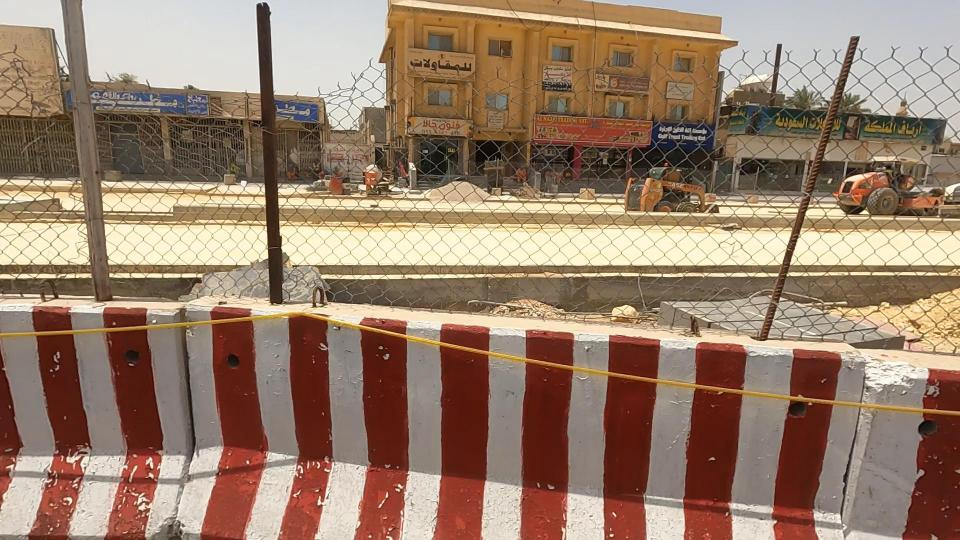CONSTRUCTION_ROAD: (302, 148, 960, 540), (0, 94, 555, 540), (451, 122, 960, 284), (9, 126, 543, 276)
SAND_ON_ROAD: (384, 143, 525, 228)
